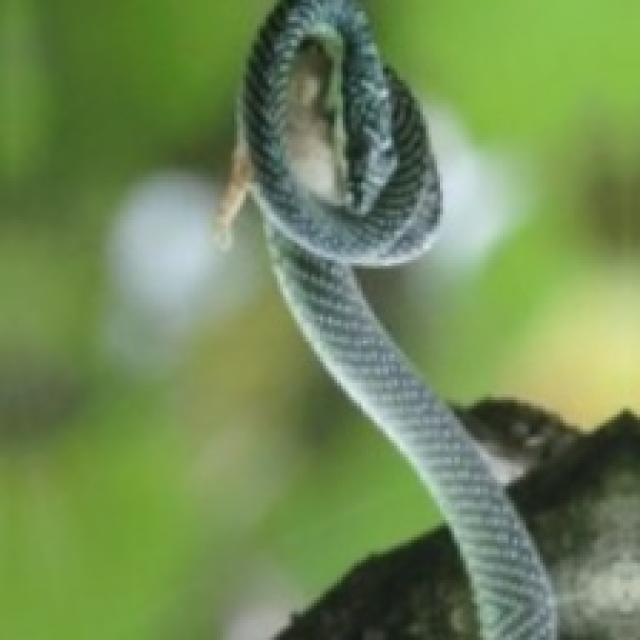paradise tree snake: (217, 0, 554, 637)
